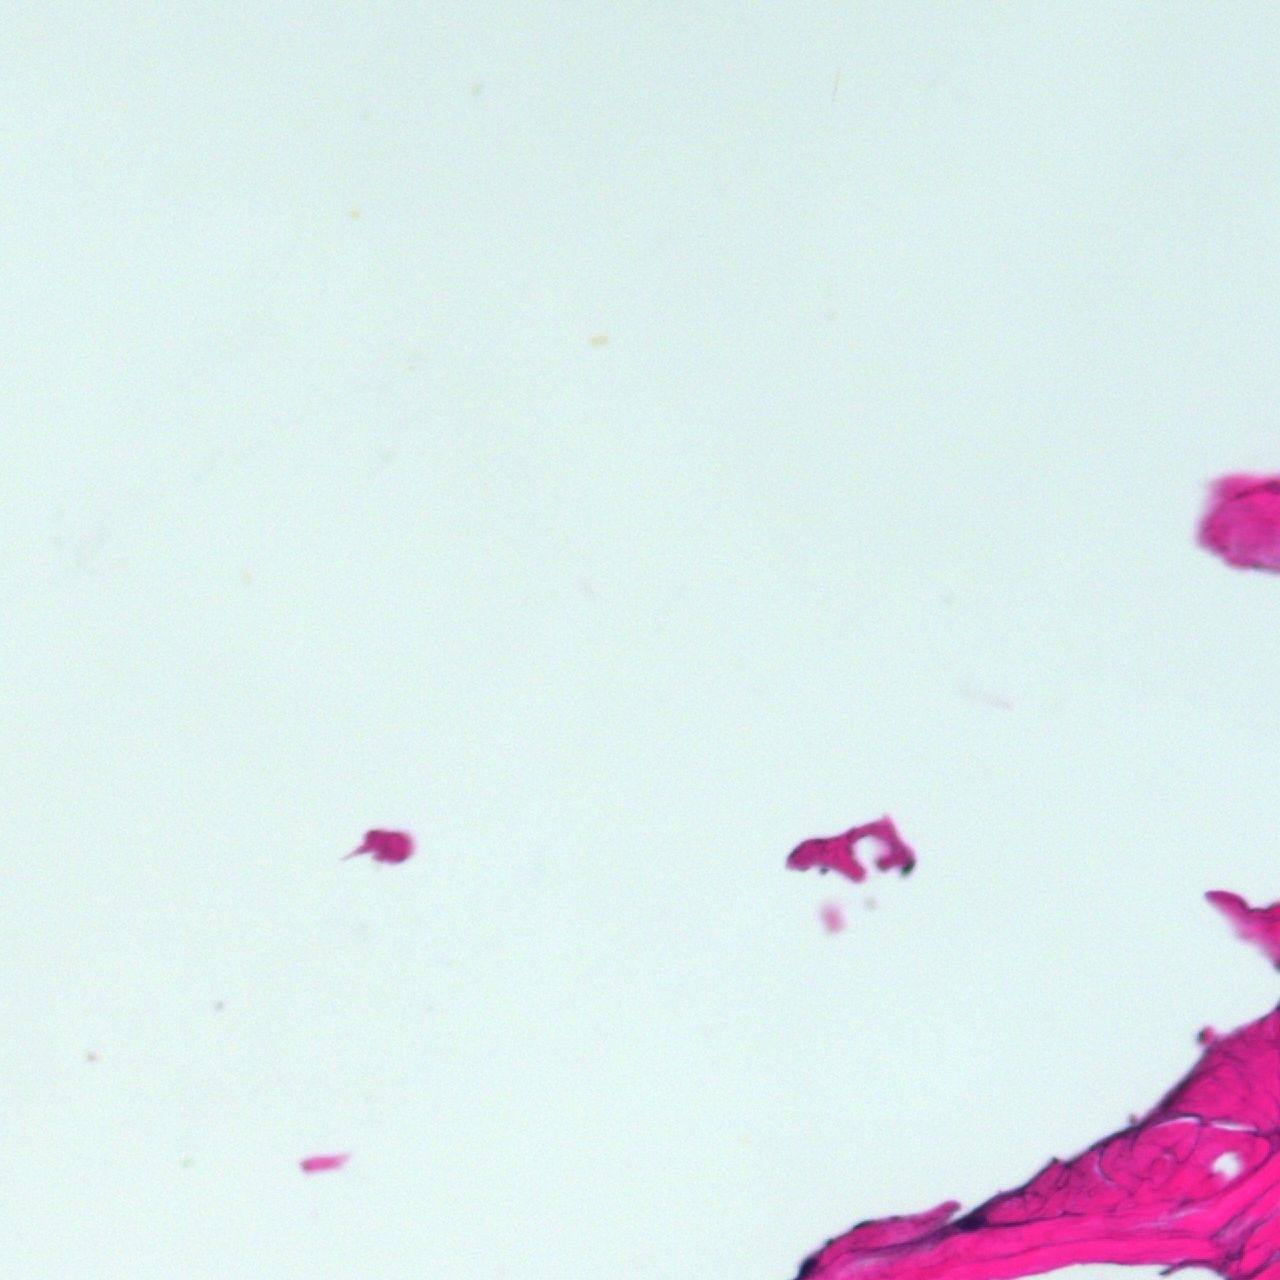dust: (587, 335, 607, 347), (86, 1053, 97, 1063), (348, 207, 359, 219)
nucleus-HE: (959, 1216, 985, 1230)
